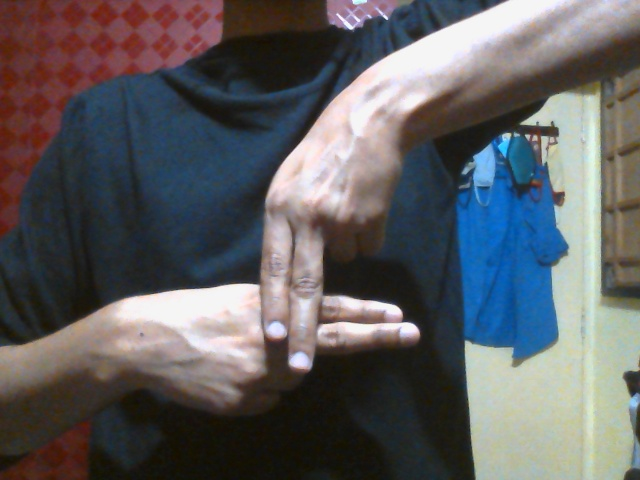F: (136, 122, 422, 418)
